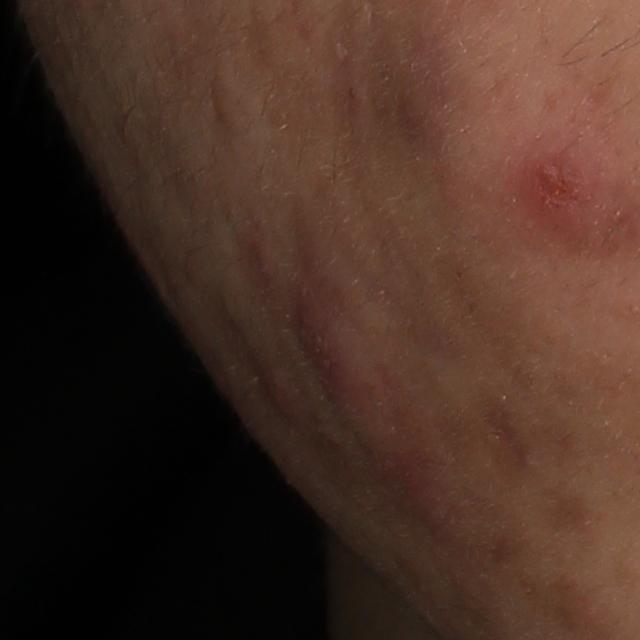papule: (399, 468, 467, 542), (255, 363, 300, 421)
